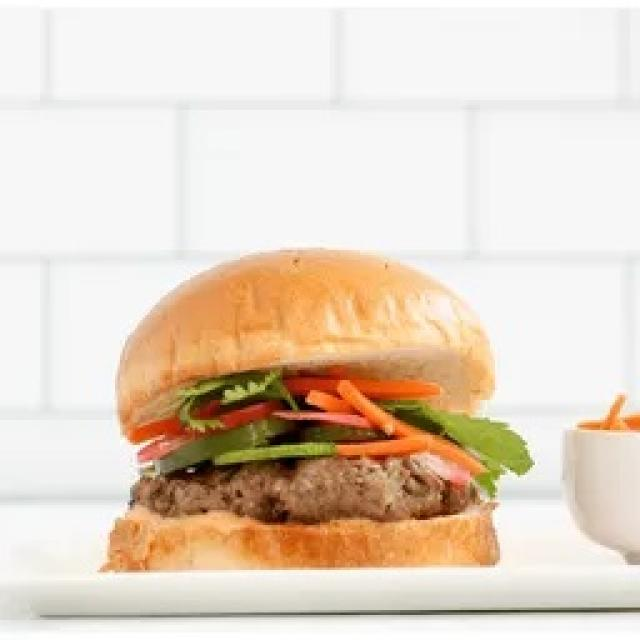burger: (102, 250, 532, 575)
